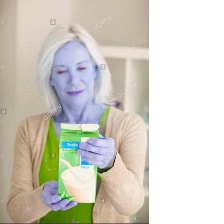carton: (56, 120, 99, 208)
